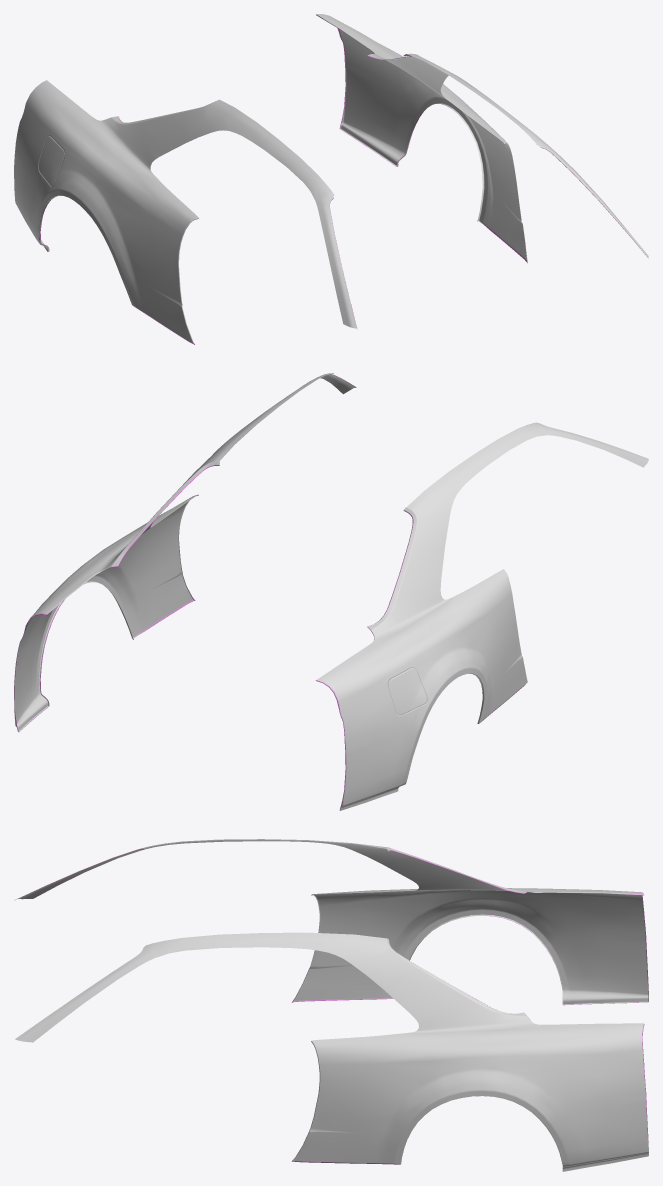
The model's file is Car_Nissan_SkylineGTRVspecR34_1999_FendersR_SetF_AltA.fbx.
The picture shows the model from 3 angles, top to bottom: view 1: azimuth 30°, elevation 25°; view 2: azimuth 150°, elevation 25°; view 3: azimuth 270°, elevation 25°; orthographic projection. The views are drawn at different scales.
Parts seen in each view (by area): view 1: FendersR 6; view 2: FendersR 6; view 3: FendersR 6.
Boxes of the visible parts, x1=… form: FendersR 6: x1=14, y1=14, x2=648, y2=344; FendersR 6: x1=14, y1=373, x2=648, y2=810; FendersR 6: x1=14, y1=839, x2=648, y2=1171.
Bounding box in the file's own units: 1.89 × 0.9817 × 2.8.
